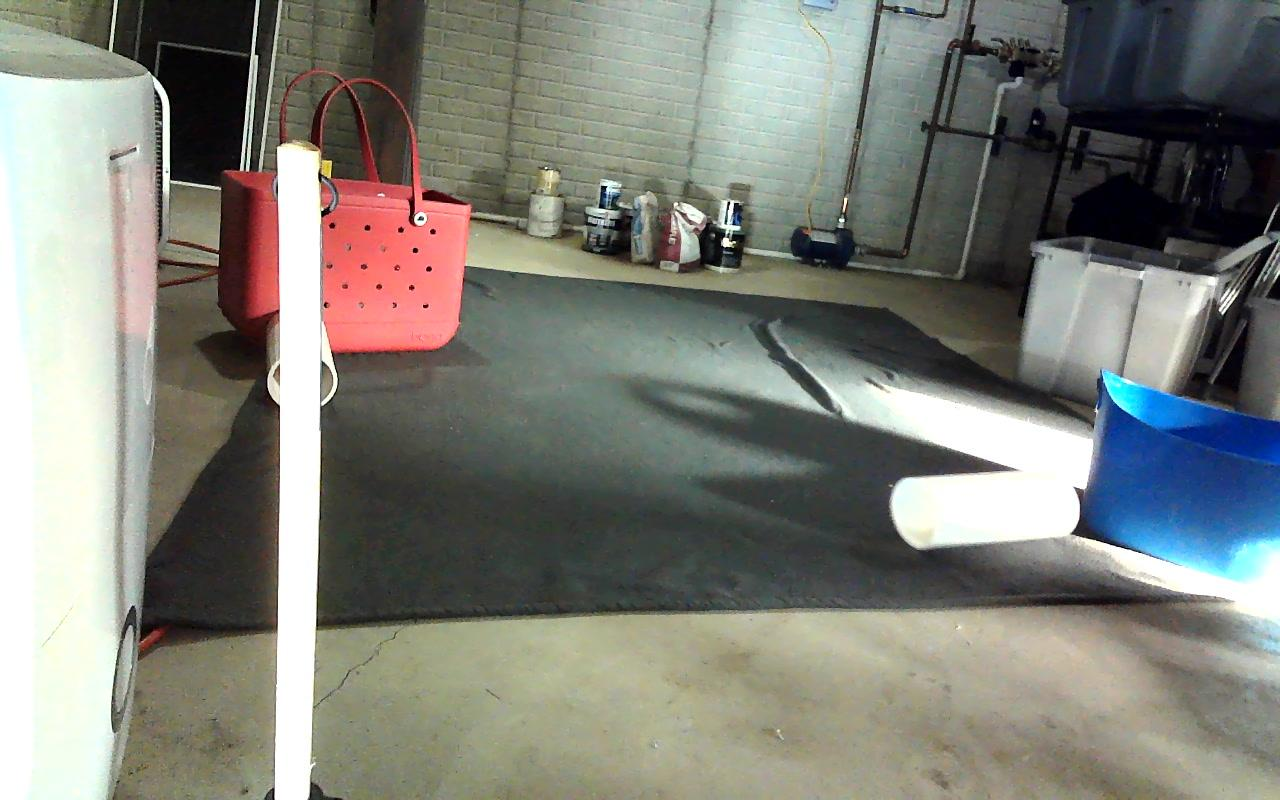coral: (889, 471, 1079, 550), (266, 310, 336, 407)
